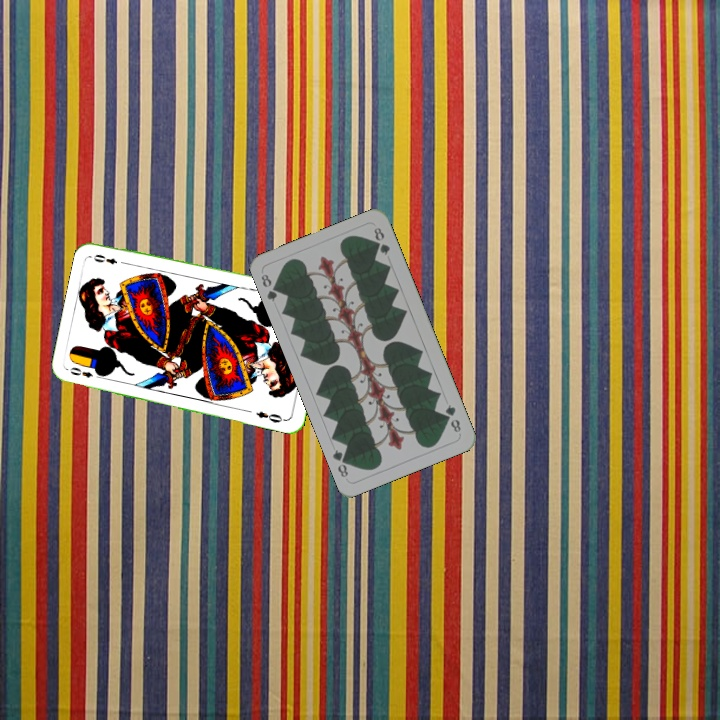EO: (65, 363, 105, 382)
G8: (257, 270, 283, 304), (441, 400, 464, 435)
